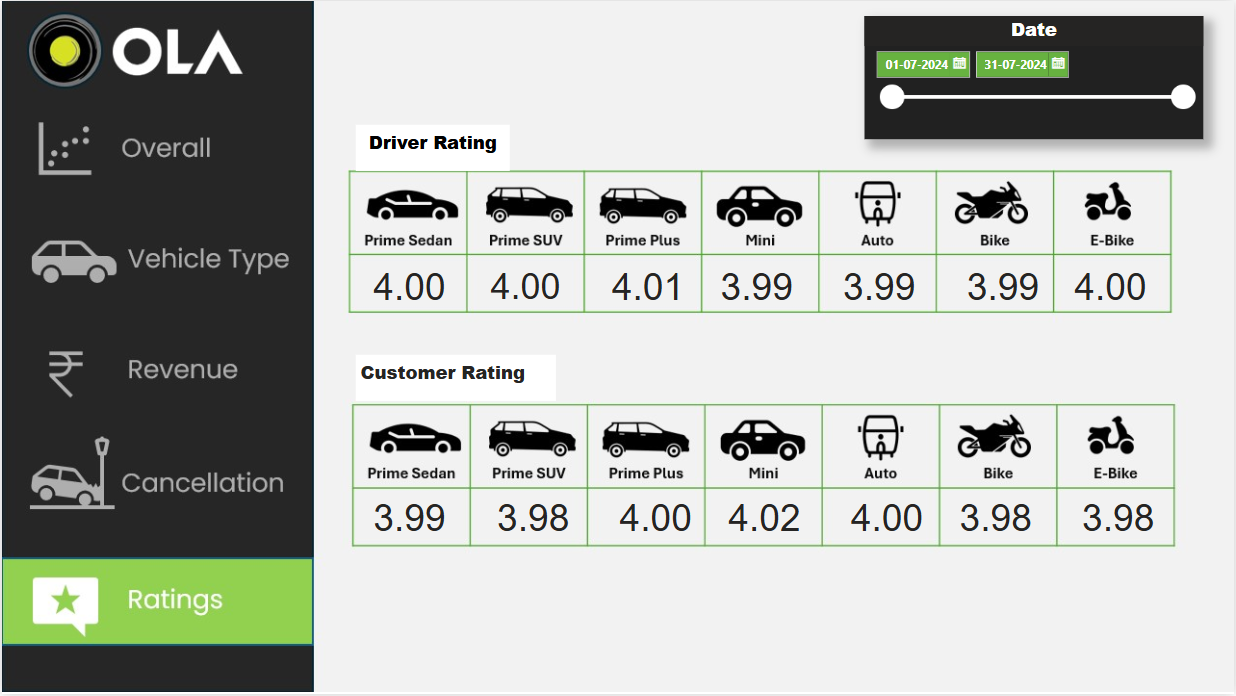

Layout of this report page (visuals, bound fields, positions):
{"tool":"powerbi","page":{"name":"Ratings","canvas":[1280,720],"ordinal":4},"visuals":[{"type":"actionButton","box":[0,112,320,96],"z":0},{"type":"actionButton","box":[0,224,320,96],"z":1000},{"type":"actionButton","box":[0,336,320,96],"z":2000},{"type":"actionButton","box":[0,448,320,96],"z":3000},{"type":"card","fields":{"Values":["Avg(July.Driver_Ratings)"]},"box":[368,272,112,48],"z":3001},{"type":"card","fields":{"Values":["Avg(July.Driver_Ratings)"]},"box":[496,272,96,48],"z":3002},{"type":"card","fields":{"Values":["Avg(July.Driver_Ratings)"]},"box":[624,272,96,48],"z":3003},{"type":"card","fields":{"Values":["Avg(July.Driver_Ratings)"]},"box":[736,272,96,48],"z":3004},{"type":"card","fields":{"Values":["Avg(July.Driver_Ratings)"]},"box":[864,272,96,48],"z":3005},{"type":"card","fields":{"Values":["Avg(July.Driver_Ratings)"]},"box":[992,272,96,48],"z":3006},{"type":"card","fields":{"Values":["Avg(July.Driver_Ratings)"]},"box":[1104,272,96,48],"z":3007},{"type":"card","fields":{"Values":["Avg(July.Customer_Rating)"]},"box":[368,512,112,48],"z":3008},{"type":"textbox","box":[368,128,144,48],"z":3009},{"type":"textbox","box":[368,368,208,48],"z":3010},{"type":"card","fields":{"Values":["Avg(July.Customer_Rating)"]},"box":[496,512,112,48],"z":3011},{"type":"card","fields":{"Values":["Avg(July.Customer_Rating)"]},"box":[624,512,112,48],"z":3012},{"type":"card","fields":{"Values":["Avg(July.Customer_Rating)"]},"box":[736,512,112,48],"z":3013},{"type":"card","fields":{"Values":["Avg(July.Customer_Rating)"]},"box":[864,512,112,48],"z":3014},{"type":"card","fields":{"Values":["Avg(July.Customer_Rating)"]},"box":[976,512,112,48],"z":3015},{"type":"card","fields":{"Values":["Avg(July.Customer_Rating)"]},"box":[1104,512,112,48],"z":3016},{"type":"slicer","title":"Date","fields":{"Values":["July.Date"]},"box":[896,16,352,128],"z":3017}]}

Visuals, with their boxes in screenshot pixels (x1, y1, x2, y2), scaled from the page's 1280x720 canvas onto the 1236x696 screenshot:
actionButton: box=[0, 108, 309, 201]
actionButton: box=[0, 217, 309, 309]
actionButton: box=[0, 325, 309, 418]
actionButton: box=[0, 433, 309, 526]
card - Avg(July.Driver_Ratings): box=[355, 263, 464, 309]
card - Avg(July.Driver_Ratings): box=[479, 263, 572, 309]
card - Avg(July.Driver_Ratings): box=[603, 263, 695, 309]
card - Avg(July.Driver_Ratings): box=[711, 263, 803, 309]
card - Avg(July.Driver_Ratings): box=[834, 263, 927, 309]
card - Avg(July.Driver_Ratings): box=[958, 263, 1051, 309]
card - Avg(July.Driver_Ratings): box=[1066, 263, 1159, 309]
card - Avg(July.Customer_Rating): box=[355, 495, 464, 541]
textbox: box=[355, 124, 494, 170]
textbox: box=[355, 356, 556, 402]
card - Avg(July.Customer_Rating): box=[479, 495, 587, 541]
card - Avg(July.Customer_Rating): box=[603, 495, 711, 541]
card - Avg(July.Customer_Rating): box=[711, 495, 819, 541]
card - Avg(July.Customer_Rating): box=[834, 495, 942, 541]
card - Avg(July.Customer_Rating): box=[942, 495, 1051, 541]
card - Avg(July.Customer_Rating): box=[1066, 495, 1174, 541]
"Date" slicer: box=[865, 15, 1205, 139]
